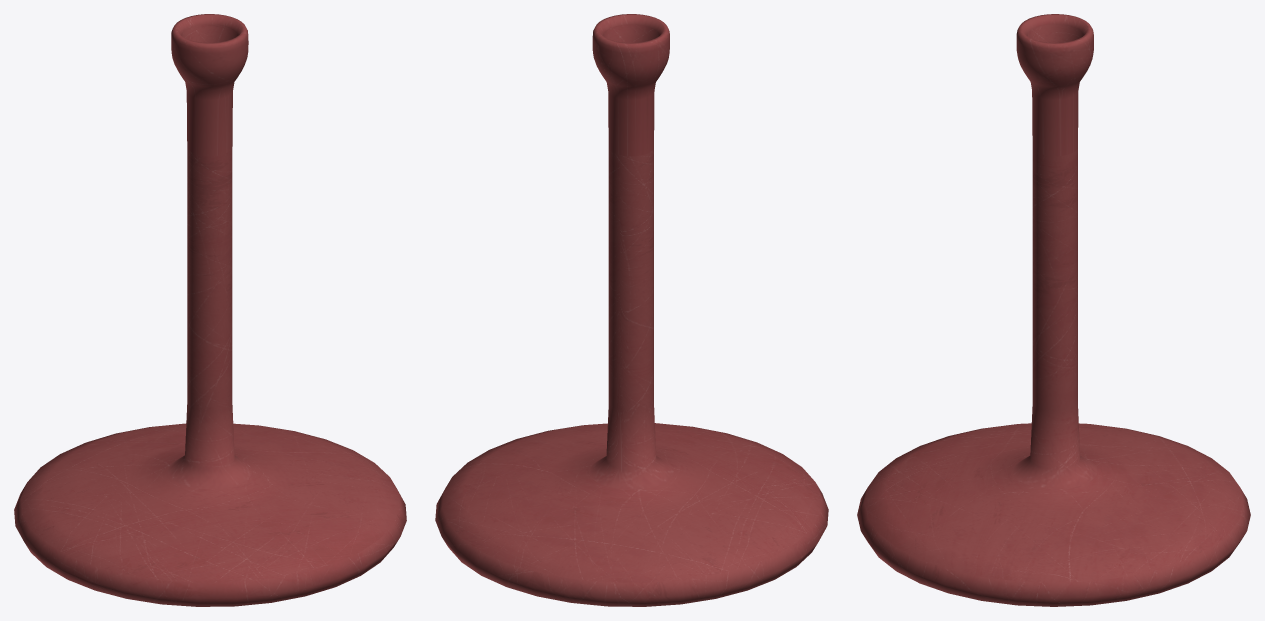
Rendered from LampBaseCollisionFix.fbx.
3 views of the same model, side by side, from view 1: azimuth 30°, elevation 25°; view 2: azimuth 150°, elevation 25°; view 3: azimuth 270°, elevation 25° (orthographic).
Visible parts, largest first — view 1: LampBase; view 2: LampBase; view 3: LampBase.
Part boxes in pixels (x1,y1,x2,y2): LampBase: [14, 14, 406, 606]; LampBase: [435, 14, 828, 606]; LampBase: [857, 14, 1250, 606].
Size of what is drawn, in the model's own units: 12.57 by 17.97 by 12.57.
